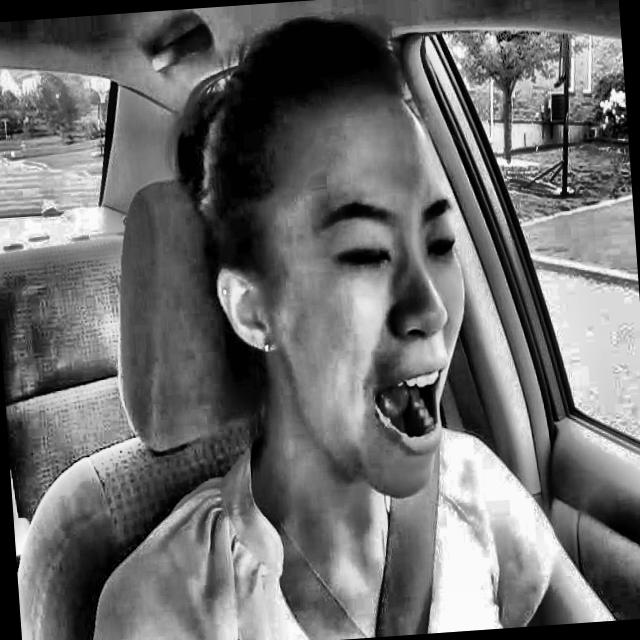closed_eyes: (317, 227, 402, 287), (415, 221, 473, 276)
open_mouth: (352, 351, 460, 468)
